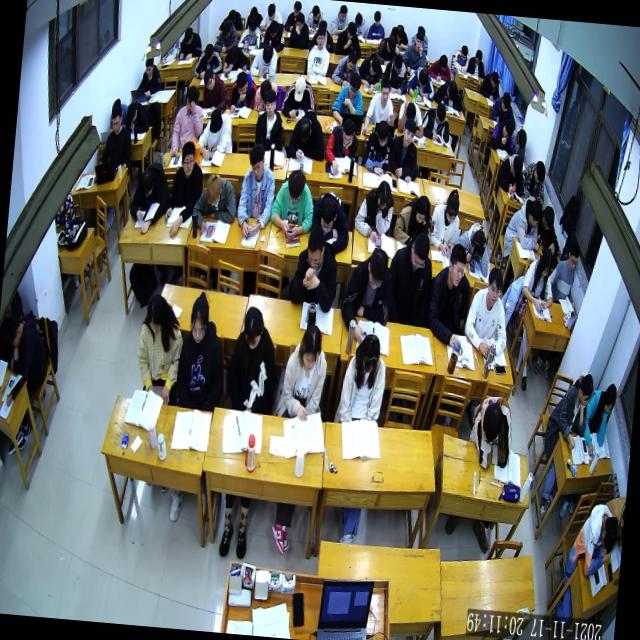bow: (126, 157, 174, 236), (468, 392, 516, 471), (190, 169, 239, 236), (308, 188, 352, 256), (392, 191, 434, 249), (286, 107, 328, 164), (454, 219, 494, 277), (504, 194, 544, 250), (281, 73, 318, 121), (496, 151, 526, 197), (356, 50, 384, 96), (404, 64, 436, 104), (192, 42, 225, 80), (395, 98, 426, 138), (330, 47, 360, 88), (535, 203, 561, 250), (488, 115, 518, 154), (258, 17, 288, 54), (123, 98, 151, 136), (433, 77, 464, 111), (252, 77, 279, 113), (221, 42, 248, 76), (426, 52, 453, 84), (374, 34, 400, 67), (388, 22, 410, 52), (452, 43, 471, 75)
down: (188, 296, 211, 346), (365, 246, 389, 292), (480, 401, 504, 447), (300, 324, 322, 374), (242, 304, 265, 351), (304, 226, 326, 272), (144, 293, 166, 337), (409, 232, 431, 272), (246, 142, 266, 184), (317, 194, 338, 234), (360, 333, 380, 375), (598, 514, 619, 554), (285, 168, 307, 206), (2, 314, 24, 351), (204, 172, 224, 209), (136, 168, 156, 202), (413, 194, 431, 227), (578, 371, 594, 407), (526, 198, 544, 230), (375, 179, 392, 211), (294, 116, 312, 146), (602, 380, 617, 416), (184, 84, 200, 116), (444, 192, 460, 224), (469, 228, 486, 258), (374, 119, 390, 150), (340, 118, 356, 148), (346, 72, 363, 100), (539, 248, 554, 279), (208, 108, 224, 136), (540, 205, 556, 233), (109, 104, 123, 134), (566, 242, 580, 272), (235, 70, 249, 98), (532, 160, 546, 186), (509, 155, 524, 179), (293, 76, 306, 102), (202, 68, 216, 92), (261, 42, 274, 66), (344, 50, 358, 72), (125, 102, 138, 125), (434, 102, 446, 126), (368, 56, 381, 78), (416, 67, 429, 89), (499, 92, 512, 114), (516, 128, 528, 151), (404, 101, 417, 122), (203, 42, 215, 64), (246, 17, 258, 39), (502, 118, 514, 140), (182, 26, 194, 47), (220, 19, 232, 40), (446, 80, 458, 101), (346, 20, 358, 40), (385, 35, 397, 55), (201, 145, 215, 162), (392, 54, 403, 75), (144, 56, 154, 79), (394, 24, 406, 43), (438, 53, 449, 72), (268, 20, 278, 40), (372, 10, 382, 29), (489, 71, 499, 90), (473, 49, 483, 66), (459, 44, 468, 62)
lookup: (446, 242, 468, 288), (484, 265, 504, 308), (179, 140, 197, 180), (401, 116, 418, 147), (262, 88, 278, 118), (378, 78, 391, 104), (314, 25, 326, 49), (413, 30, 425, 51), (294, 12, 306, 32)
sit: (173, 289, 232, 413), (224, 303, 282, 415), (132, 292, 186, 408), (338, 242, 396, 346), (423, 239, 474, 350), (278, 321, 330, 424), (384, 228, 436, 328), (0, 308, 50, 410), (460, 264, 512, 360), (288, 223, 342, 314), (336, 330, 388, 424), (162, 139, 208, 241), (564, 498, 620, 580), (234, 140, 278, 241), (544, 367, 595, 452), (267, 164, 317, 240), (168, 82, 208, 160), (352, 177, 396, 244), (581, 378, 617, 458), (520, 244, 558, 314), (194, 105, 237, 164), (98, 104, 136, 170), (387, 114, 422, 184), (428, 186, 462, 258), (321, 116, 360, 178), (361, 75, 398, 138), (253, 88, 288, 152), (546, 240, 580, 305), (330, 70, 366, 128), (361, 117, 394, 178), (198, 66, 230, 117), (419, 100, 452, 147), (227, 68, 258, 116), (520, 157, 548, 207), (306, 25, 332, 78), (380, 51, 410, 96), (333, 19, 363, 59), (248, 42, 278, 80), (402, 29, 428, 72), (139, 54, 163, 98), (286, 10, 312, 50), (176, 26, 204, 62), (235, 15, 262, 52), (213, 18, 239, 55), (489, 90, 514, 124), (479, 70, 500, 101), (466, 48, 486, 80), (367, 10, 388, 40)
